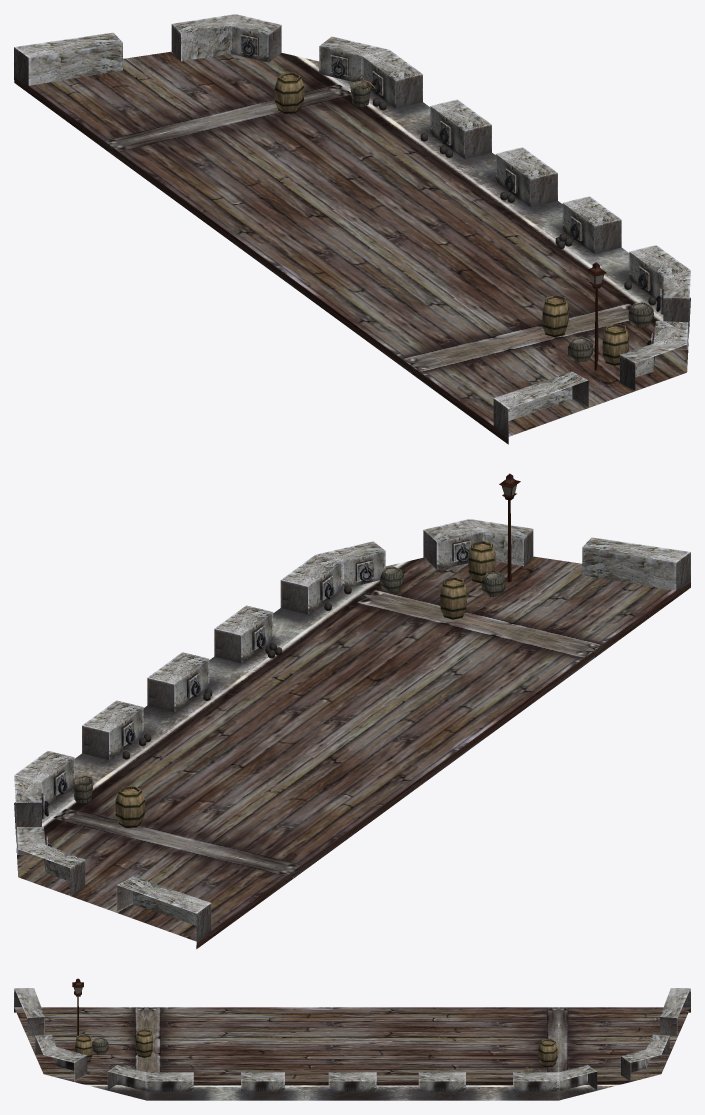
The model's file is pir_m_gam_can_cannonOverlay_tortuga.fbx.
3 views of the same model, one above another, from view 1: azimuth 30°, elevation 25°; view 2: azimuth 150°, elevation 25°; view 3: azimuth 270°, elevation 25° (orthographic). The views are drawn at different scales.
Parts seen in each view (by area): view 1: base, barrel_worn_1, barrel_worn_3, barrel_worn_2; view 2: base, barrel_worn_1, barrel_worn_3, barrel_worn_2; view 3: base, barrel_worn_1, barrel_worn_3, barrel_worn_2, barrel1.
Boxes of the visible parts, x1,y1,x2,y2 form: base: (14, 14, 690, 444); barrel_worn_1: (274, 72, 304, 113); barrel_worn_3: (542, 295, 568, 337); barrel_worn_2: (602, 323, 628, 365); base: (14, 519, 690, 949); barrel_worn_1: (115, 786, 145, 827); barrel_worn_3: (440, 577, 467, 619); barrel_worn_2: (468, 541, 495, 583); base: (14, 988, 690, 1100); barrel_worn_1: (538, 1038, 557, 1067); barrel_worn_3: (135, 1029, 153, 1057); barrel_worn_2: (75, 1034, 92, 1062); barrel1: (92, 1037, 108, 1054).
Bounding box in the file's own units: 3690 × 1463 × 11318.
Materials: 3 (3 with a texture image).
